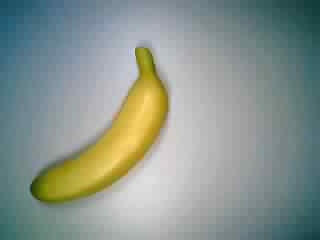banana: (29, 46, 173, 202)
